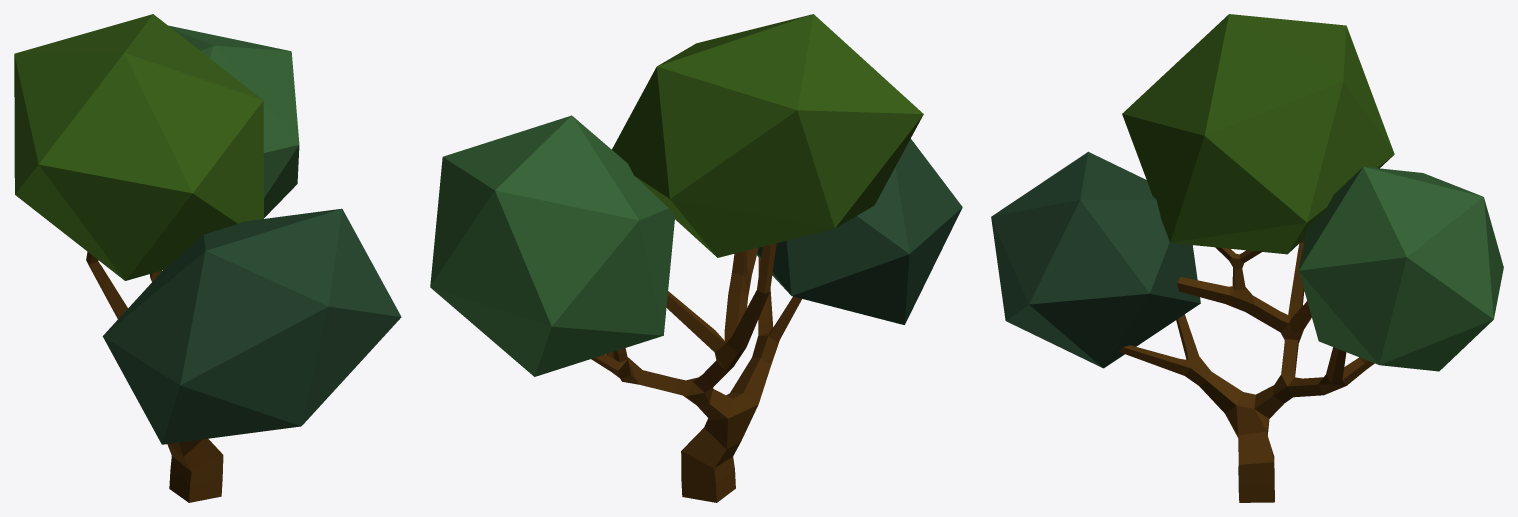
File: tree2_cityedit-CNKLxq-Y.glb
3 views of the same model, side by side, from view 1: azimuth 30°, elevation 25°; view 2: azimuth 150°, elevation 25°; view 3: azimuth 270°, elevation 25° (orthographic). The views are drawn at different scales.
Parts seen in each view (by area): view 1: Icosphere.002, Icosphere.003, Icosphere, Cube; view 2: Icosphere.002, Icosphere, Icosphere.003, Cube; view 3: Icosphere.002, Icosphere, Icosphere.003, Cube.
Boxes of the visible parts, x1,y1,x2,y2 form: Icosphere.002: (14, 14, 263, 280); Icosphere.003: (102, 208, 401, 444); Icosphere: (168, 25, 299, 217); Cube: (86, 252, 223, 502); Icosphere.002: (612, 14, 923, 257); Icosphere: (430, 115, 675, 376); Icosphere.003: (757, 139, 962, 324); Cube: (591, 243, 801, 502); Icosphere.002: (1122, 14, 1394, 254); Icosphere: (1298, 166, 1503, 371); Icosphere.003: (991, 151, 1200, 368); Cube: (1119, 238, 1374, 502).
Bounding box in the file's own units: 9 × 11.34 × 11.92.
